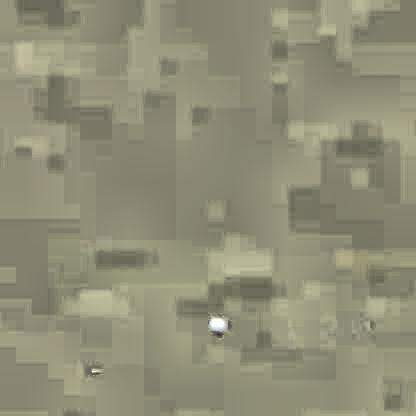golfball: (206, 314, 223, 334)
